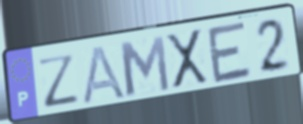2: (255, 17, 292, 77)
A: (81, 43, 129, 106)
E: (205, 19, 255, 87)
M: (116, 33, 172, 99)
X: (163, 27, 211, 92)
Z: (36, 51, 82, 110)
